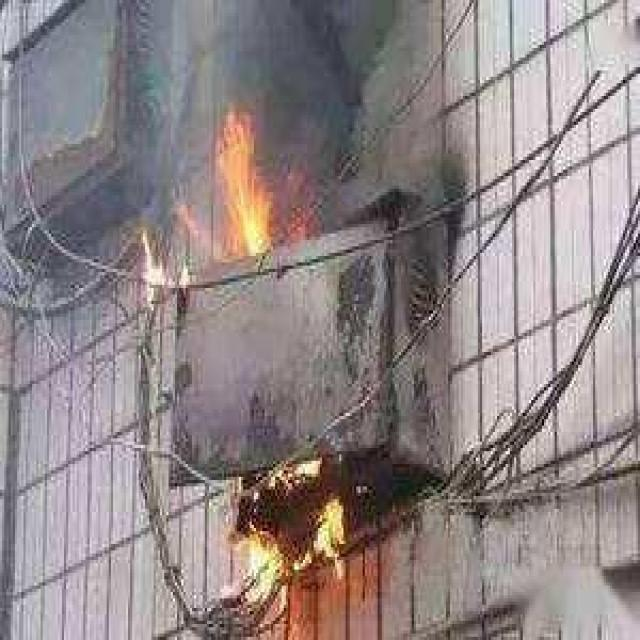fire: (218, 456, 348, 608), (181, 103, 274, 251)
smoke: (231, 0, 416, 124)
